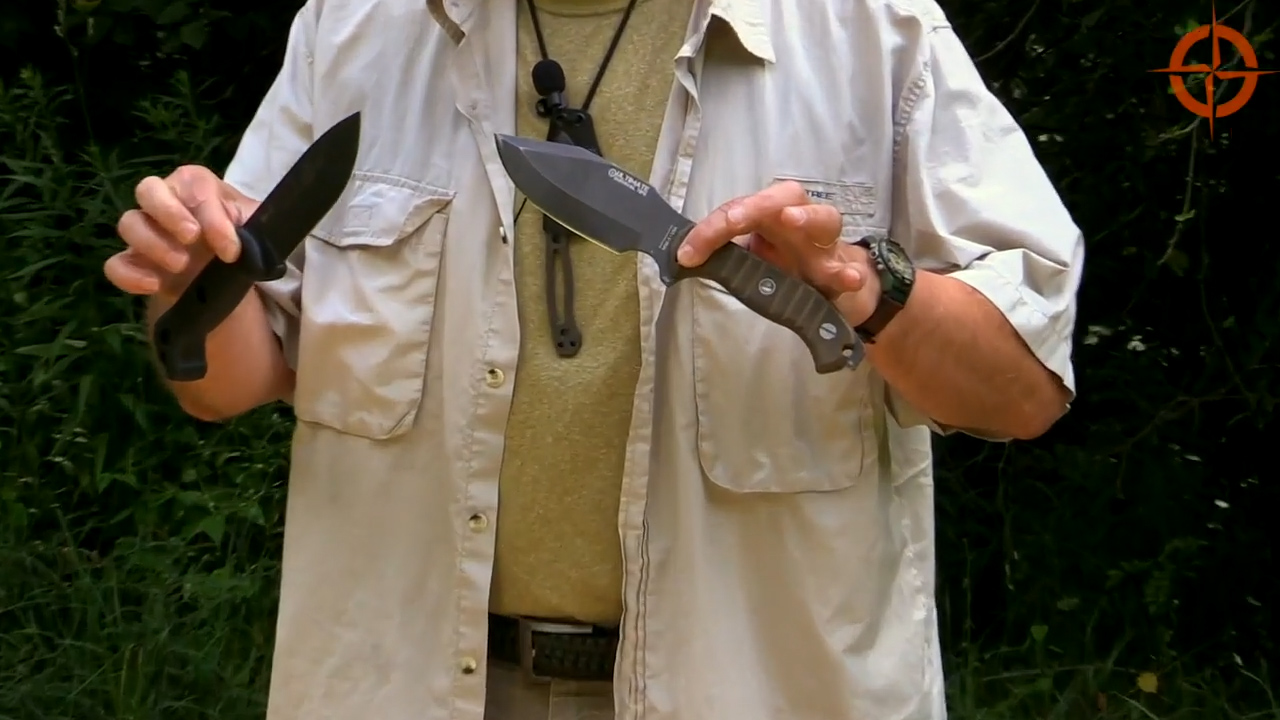knife: (489, 126, 867, 378), (149, 103, 364, 390)
